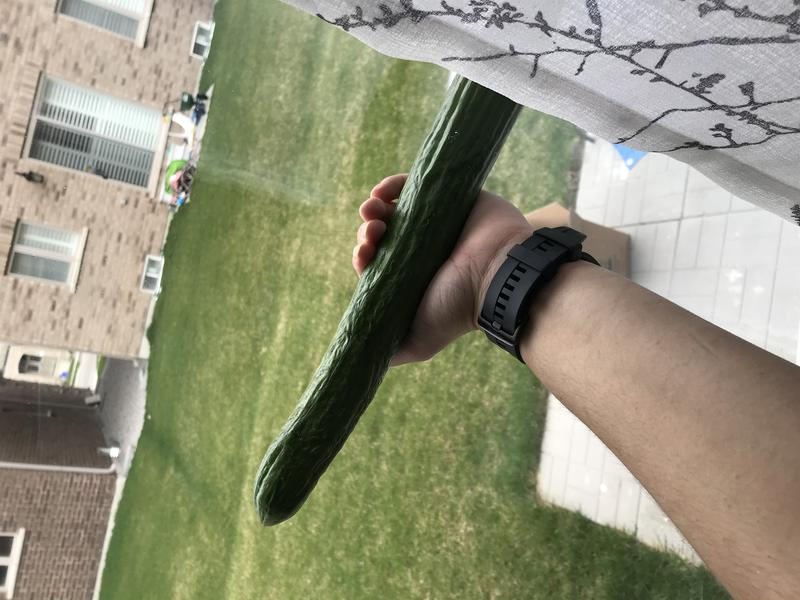cucumber: (242, 56, 525, 548)
